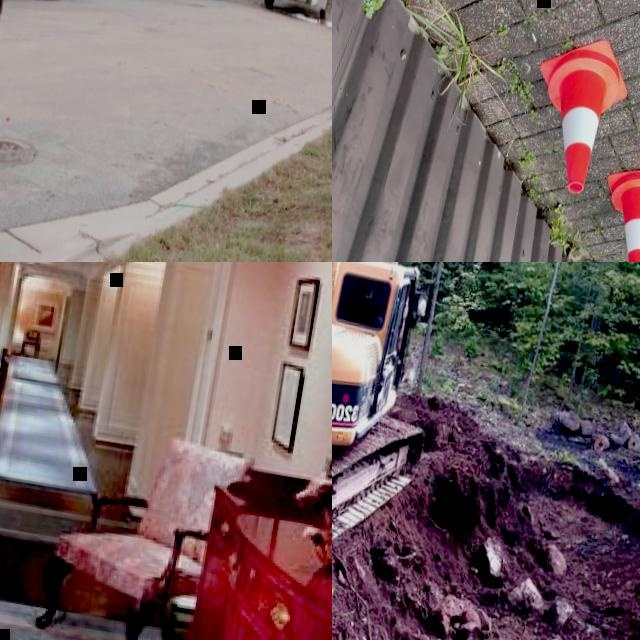Safety Cone: (519, 30, 640, 206), (592, 155, 640, 262)
machinery: (332, 262, 476, 563)
